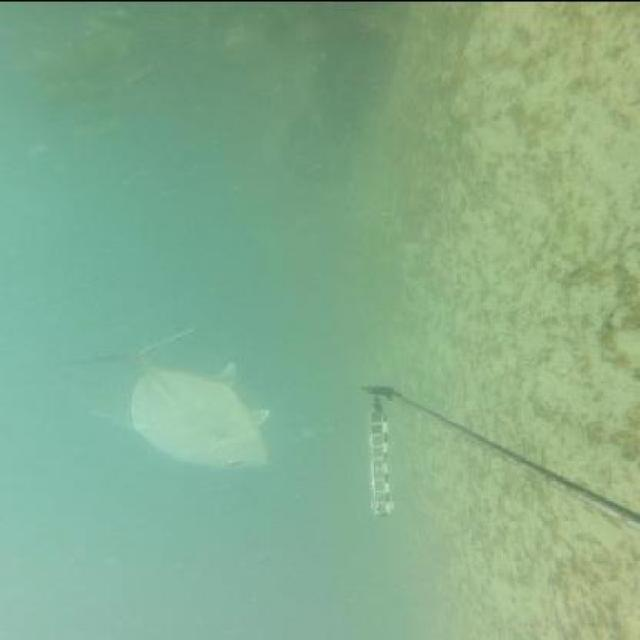Caranx: (53, 322, 284, 471)
